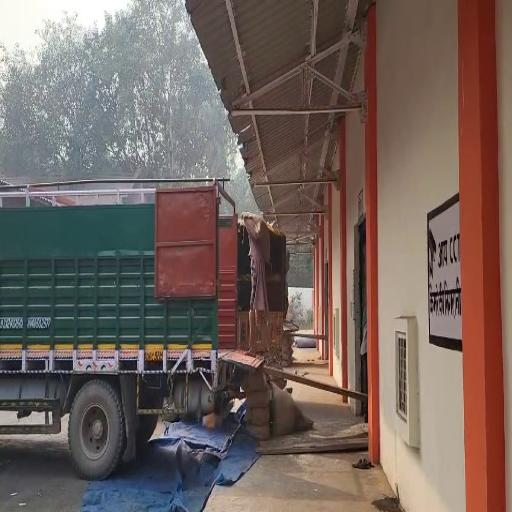bag: (242, 207, 275, 263)
